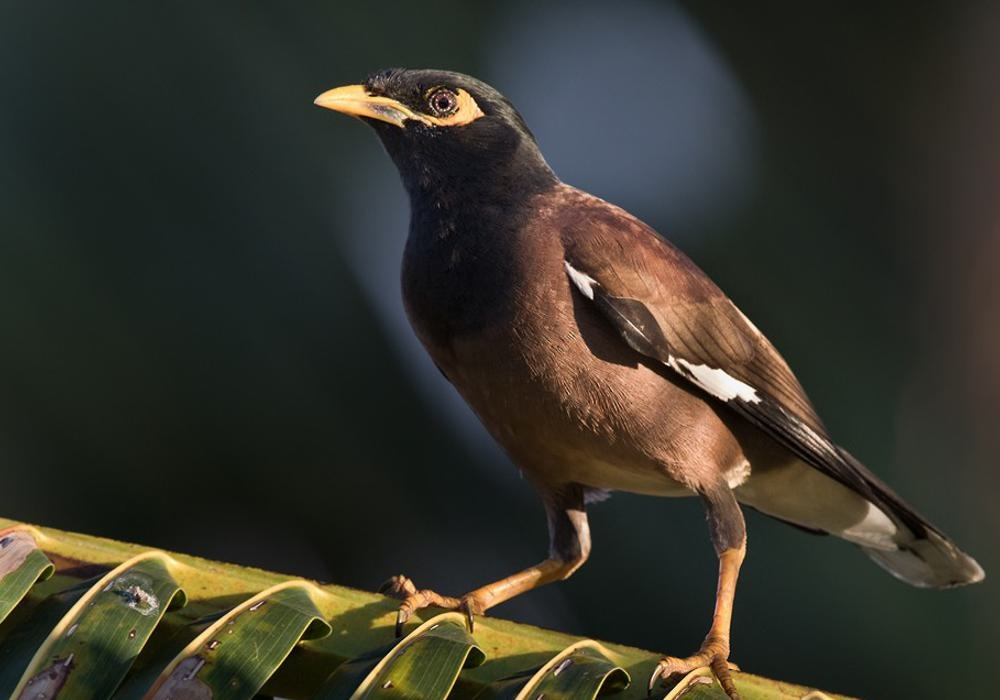myna: (323, 47, 797, 623)
